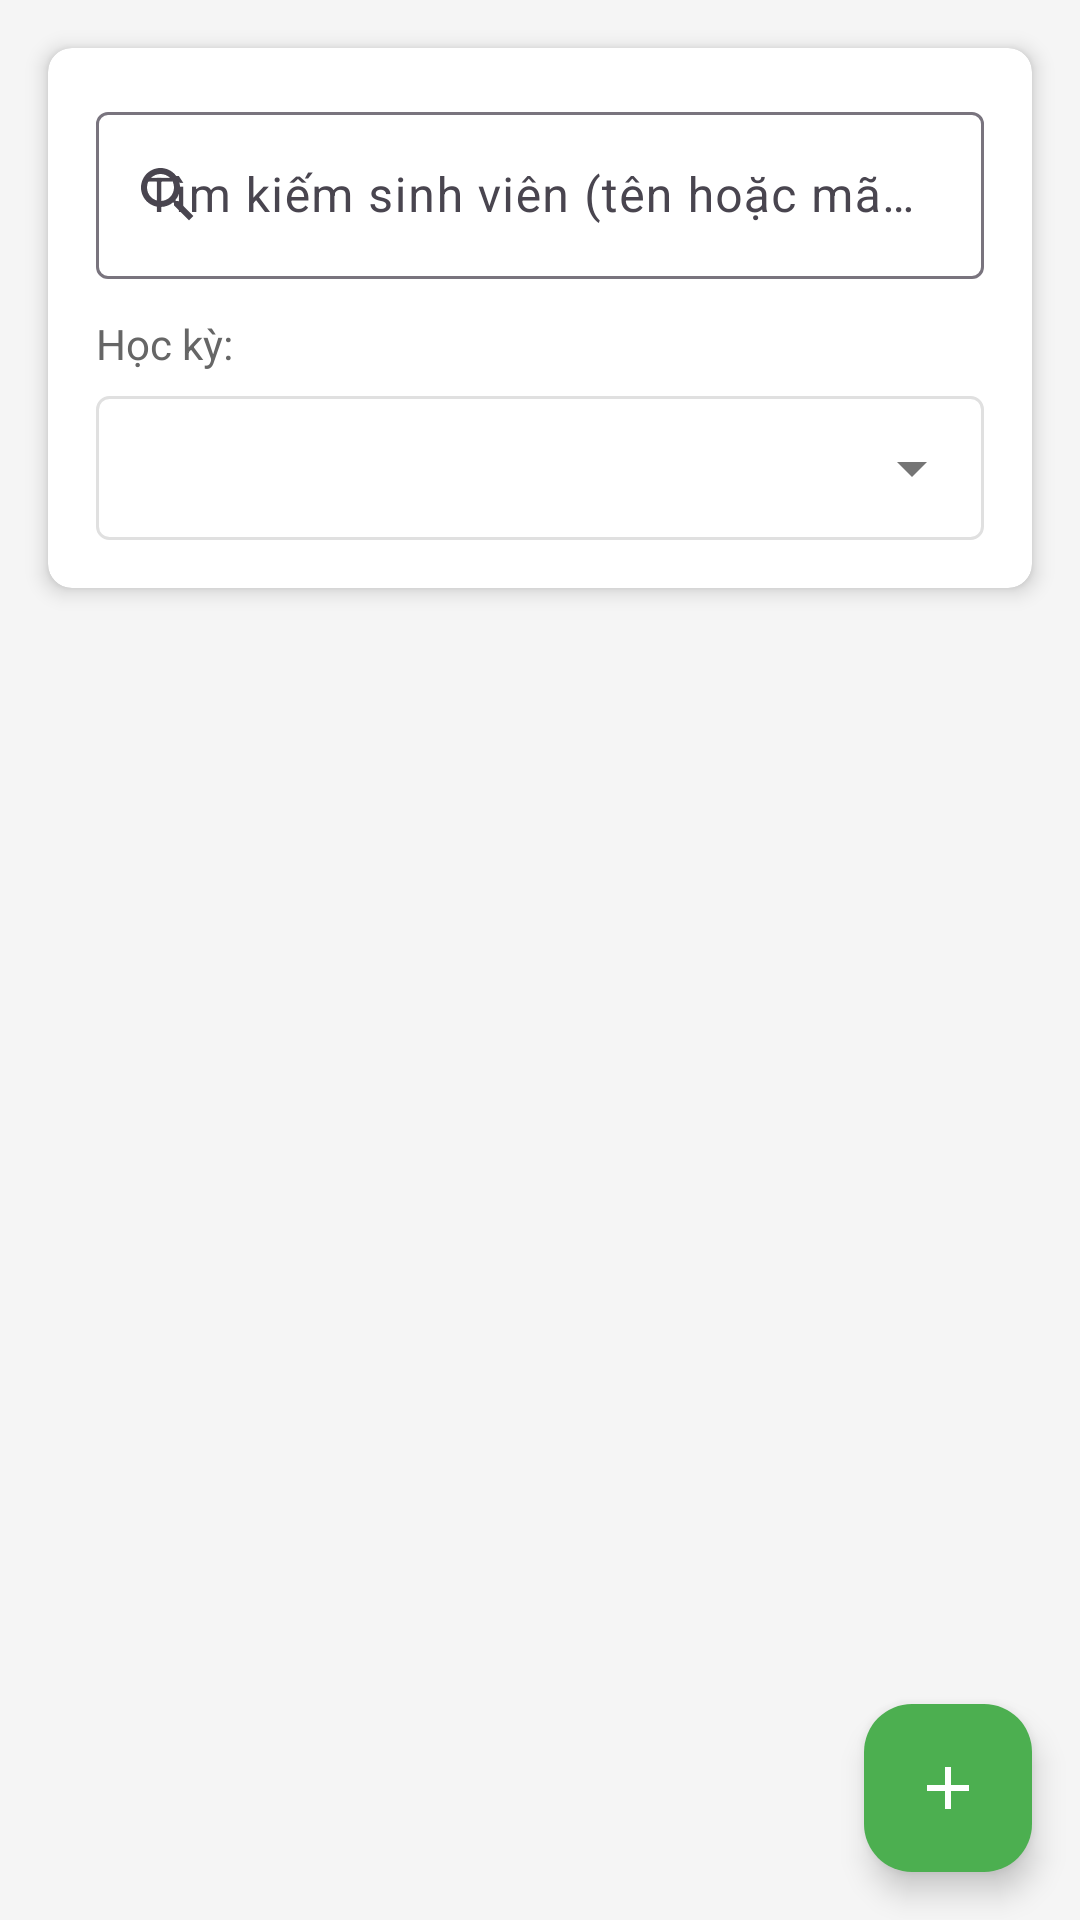

Screen size 1080px x 1920px. Icon name, then its center in pixels as [x,y]:
Thêm điểm mới: [948,1788]
